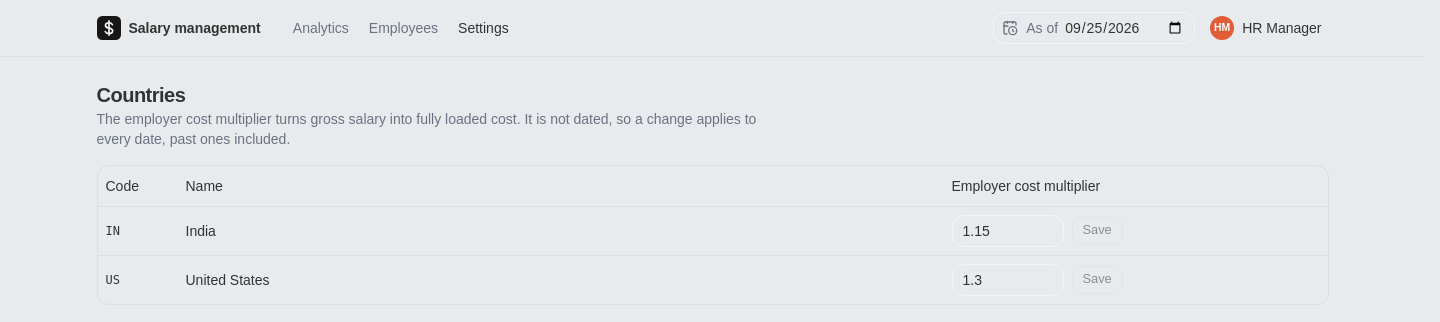
countries › sends the multiplier as a string and reloads the countries
The width and height of the screenshot is (1440, 322).
Replace the text in the field labelled "India" with "1.2" at point(1008, 230), box x1=952 y1=214 x2=1064 y2=246
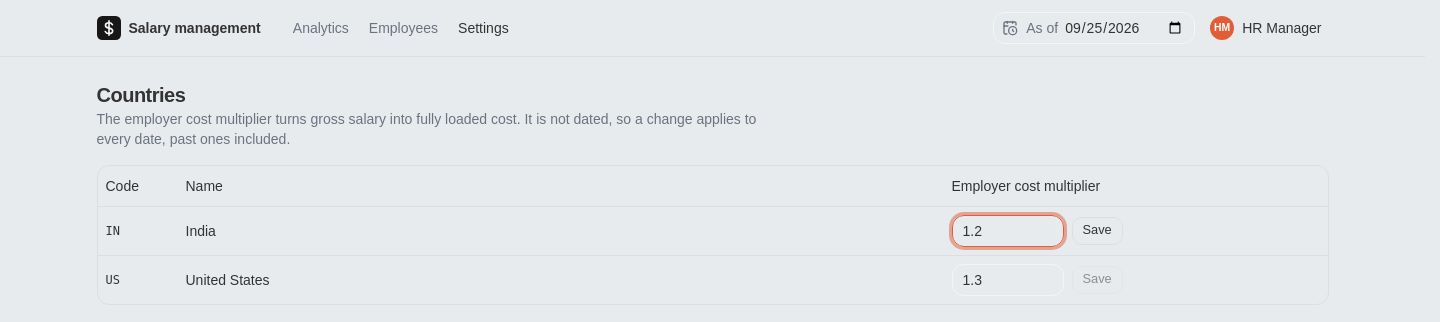
Click the button "Save" in the row of "India" at point(1097, 230), box x1=1072 y1=216 x2=1123 y2=244
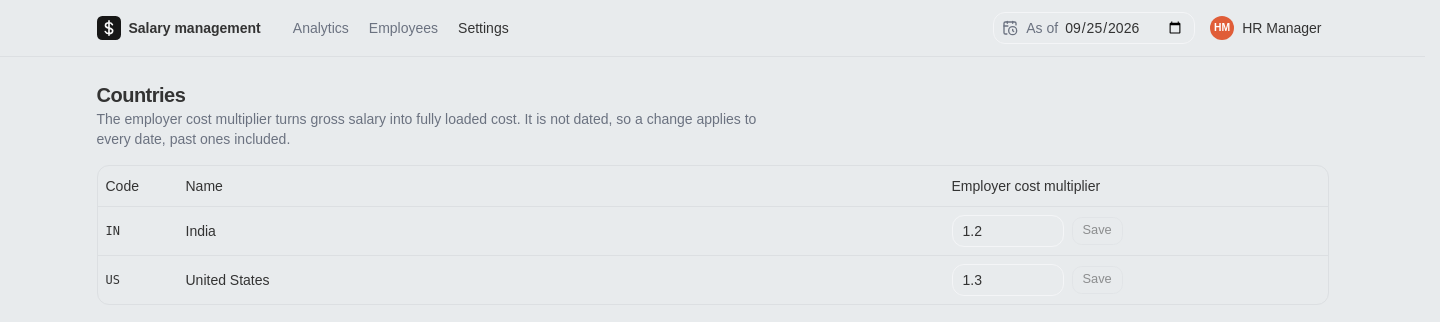
Now the field labelled "India" holds "1.2", box x1=952 y1=214 x2=1064 y2=246
Now the button "Save" in the row of "India" is disabled, box x1=1072 y1=216 x2=1123 y2=244
